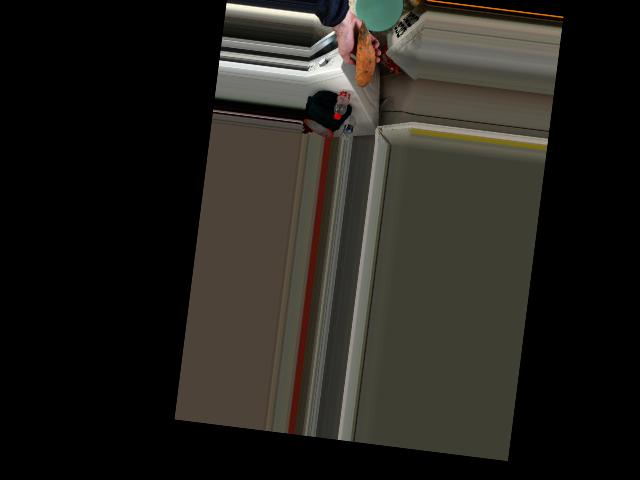sweet_potato: (352, 24, 380, 82)
